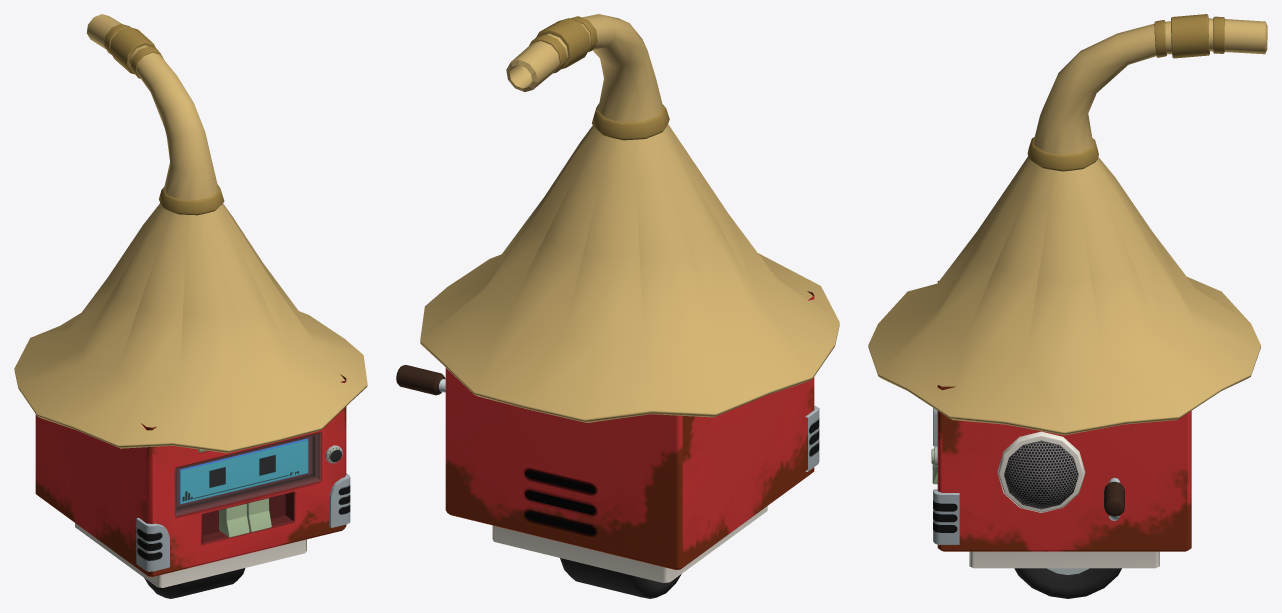
File: Billy.fbx
3 renders of one model, left to right at view 1: azimuth 30°, elevation 25°; view 2: azimuth 150°, elevation 25°; view 3: azimuth 270°, elevation 25°, orthographic. The views are drawn at different scales.
Parts seen in each view (by area): view 1: Billy; view 2: Billy; view 3: Billy.
Boxes of the visible parts, x1,y1,x2,y2 form: Billy: [14, 14, 367, 598]; Billy: [396, 14, 839, 598]; Billy: [868, 14, 1267, 598].
Bounding box in the file's own units: 3.25 × 4.93 × 3.14.
2 materials, 2 textured.
